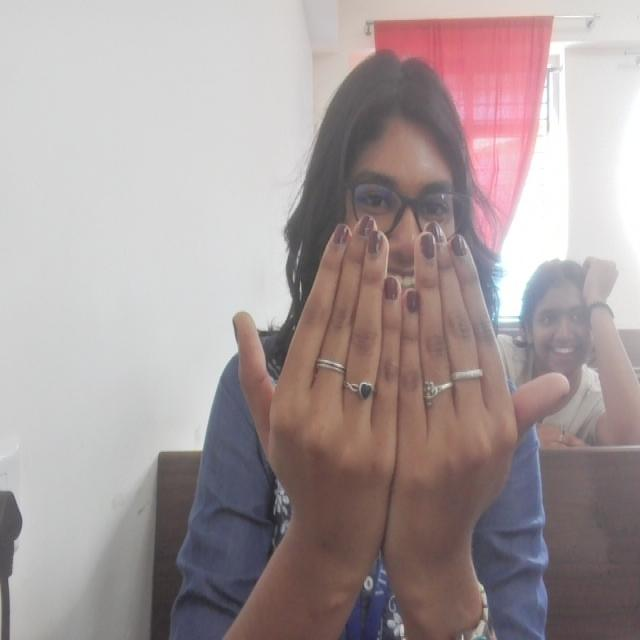thankyou: (229, 212, 573, 550)
